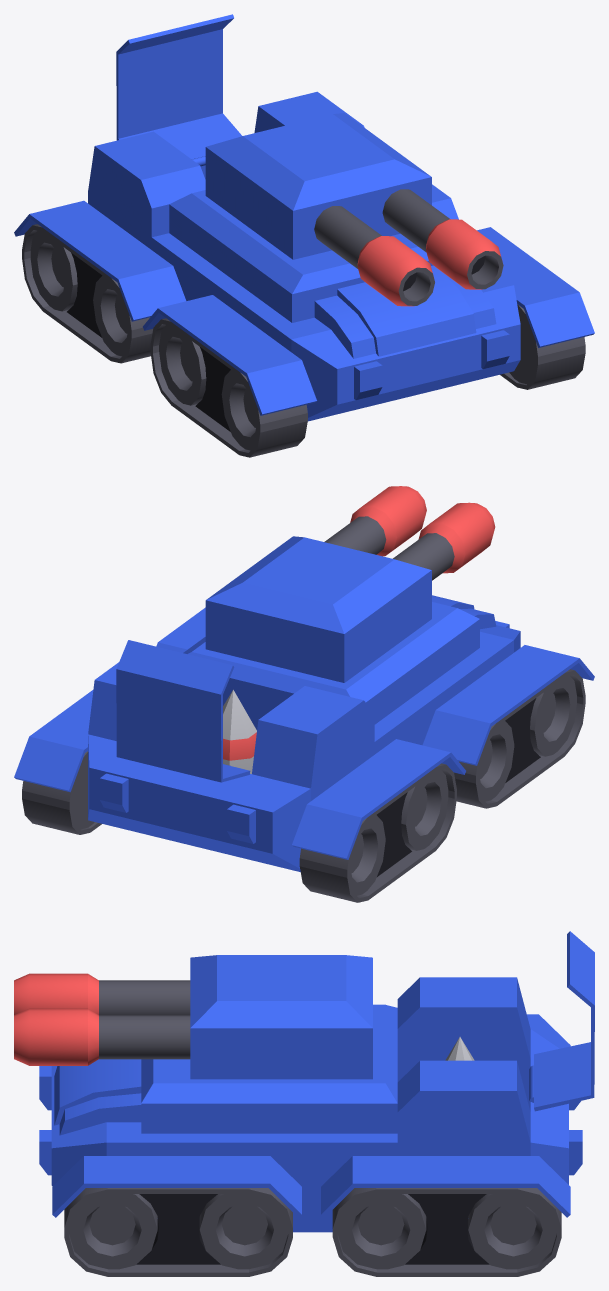
The model's file is Tank_concept_Denis.fbx.
3 views of the same model, one above another, from view 1: azimuth 30°, elevation 25°; view 2: azimuth 150°, elevation 25°; view 3: azimuth 270°, elevation 25° (orthographic). The views are drawn at different scales.
Visible parts, largest first — view 1: Tank_base, Tank_tower, Tank_cap; view 2: Tank_base, Tank_tower, Tank_cap, Rocket; view 3: Tank_base, Tank_tower, Tank_cap.
Part boxes in pixels (x1,y1,x2,y2): Tank_base: (14,91,594,457); Tank_tower: (205,113,503,306); Tank_cap: (116,14,241,159); Tank_base: (14,595,594,902); Tank_tower: (205,486,495,682); Tank_cap: (116,640,250,782); Rocket: (223,689,256,773); Tank_base: (39,977,582,1276); Tank_tower: (14,955,372,1079); Tank_cap: (534,931,594,1111).
Bounding box in the file's own units: 454 × 296 × 658.
